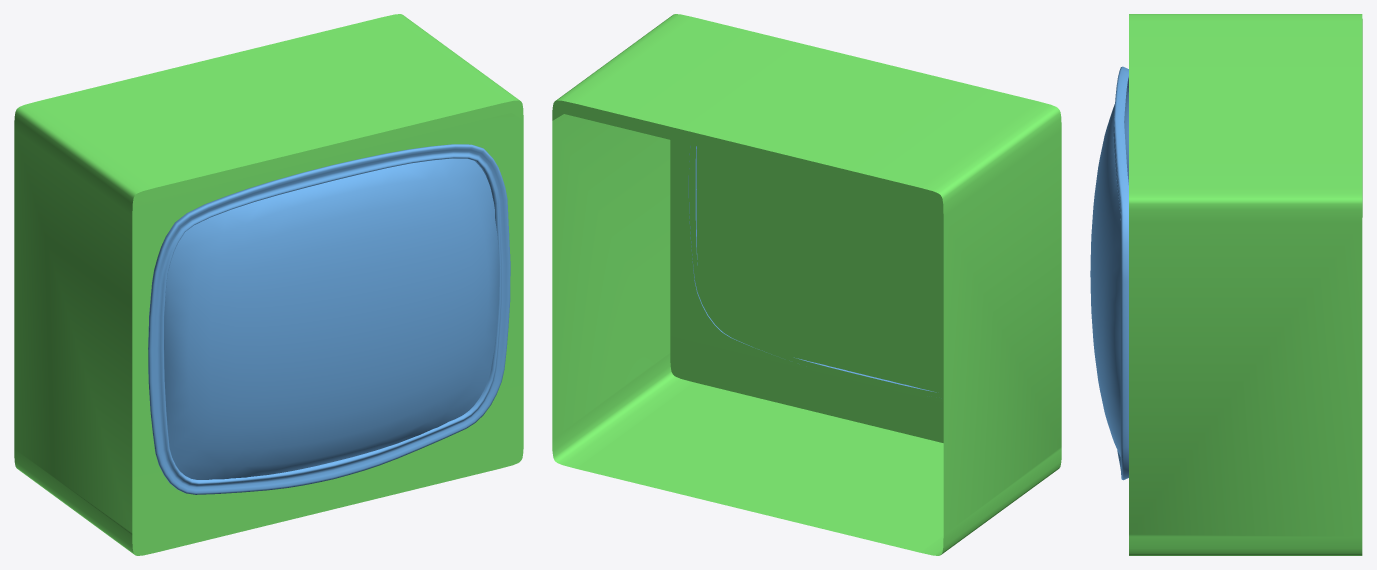
File: bathScreen.fbx
3 views of the same model, side by side, from view 1: azimuth 30°, elevation 25°; view 2: azimuth 150°, elevation 25°; view 3: azimuth 270°, elevation 25° (orthographic).
Parts seen in each view (by area): view 1: lp_main, lp_screen, lp_circle; view 2: lp_main; view 3: lp_main, lp_screen, lp_circle.
Part boxes in pixels (x1,y1,x2,y2): lp_main: (14,14,523,555); lp_screen: (164,158,499,479); lp_circle: (148,144,510,494); lp_main: (552,14,1061,555); lp_main: (1129,14,1362,555); lp_screen: (1090,81,1128,456); lp_circle: (1113,66,1128,480).
Size of the model in its own units: 28.48 by 25.38 by 17.36.
